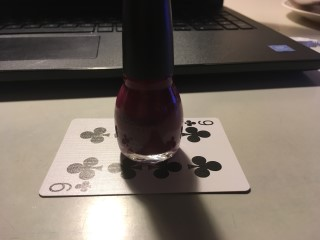NineOfClubs: (39, 117, 254, 197)
